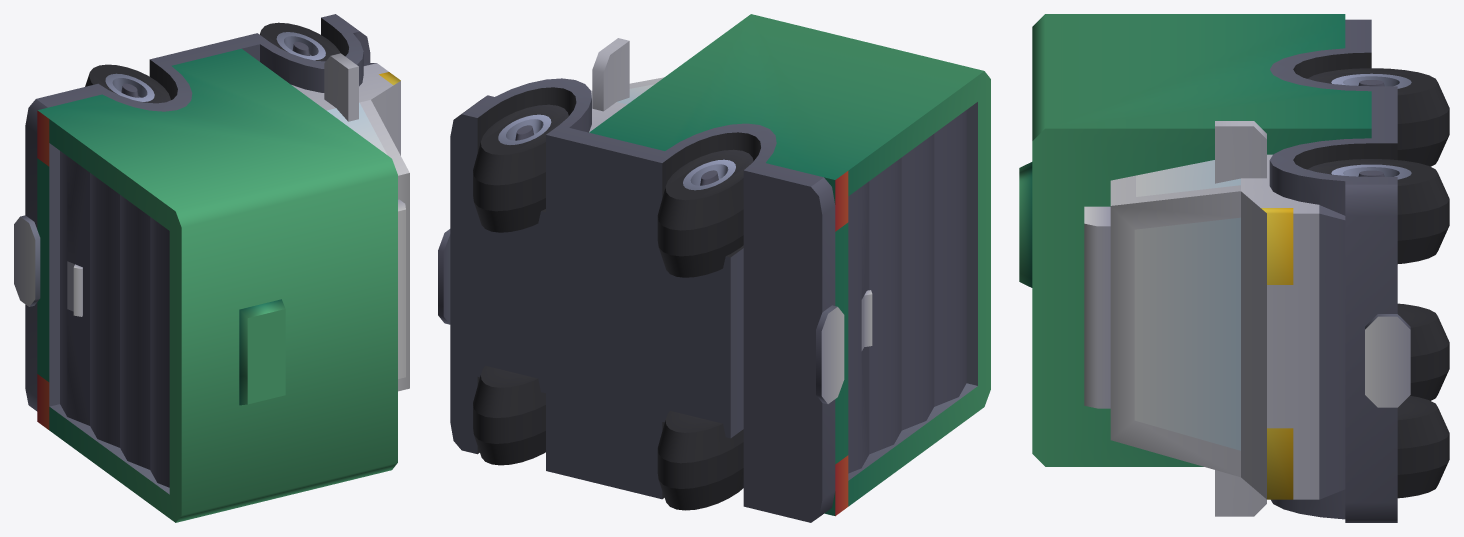
3 views of the same model, side by side, from view 1: azimuth 30°, elevation 25°; view 2: azimuth 150°, elevation 25°; view 3: azimuth 270°, elevation 25° (orthographic). The views are drawn at different scales.
Visible parts, largest first — view 1: vehicle/rv; view 2: vehicle/rv; view 3: vehicle/rv.
Boxes of the visible parts, x1=… form: vehicle/rv: x1=14, y1=14, x2=409, y2=522; vehicle/rv: x1=438, y1=14, x2=990, y2=522; vehicle/rv: x1=1019, y1=14, x2=1449, y2=522.
Size of the model in its own units: 1 by 1 by 1.
